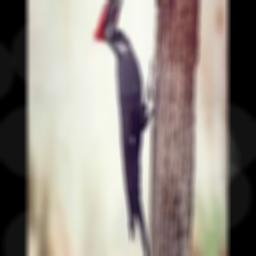Woodpecker: (94, 0, 155, 256)
